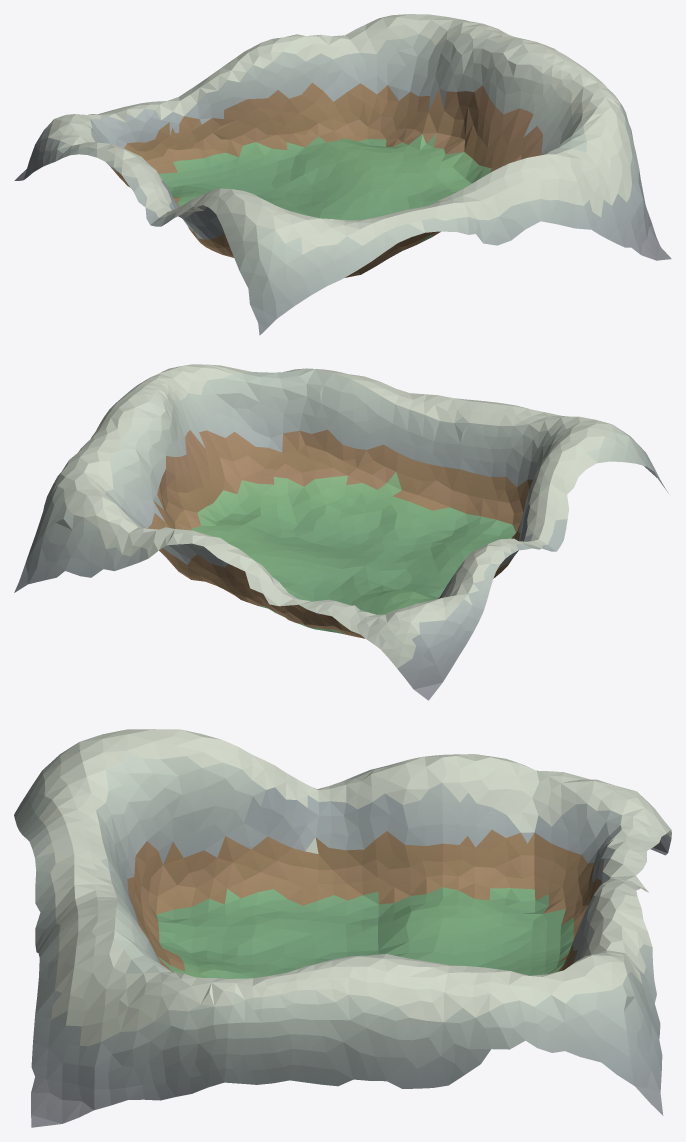
Rendered from WorldMap.glb.
3 views of the same model, one above another, from view 1: azimuth 30°, elevation 25°; view 2: azimuth 150°, elevation 25°; view 3: azimuth 270°, elevation 25° (orthographic). The views are drawn at different scales.
Parts seen in each view (by area): view 1: Plane; view 2: Plane; view 3: Plane.
Boxes of the visible parts, box(x1,y1,x2,y2) form: Plane: box(14, 14, 671, 335); Plane: box(14, 364, 668, 700); Plane: box(14, 729, 671, 1127).
Bounding box in the file's own units: 71.72 × 18.65 × 68.55.
1 material, 1 textured.
